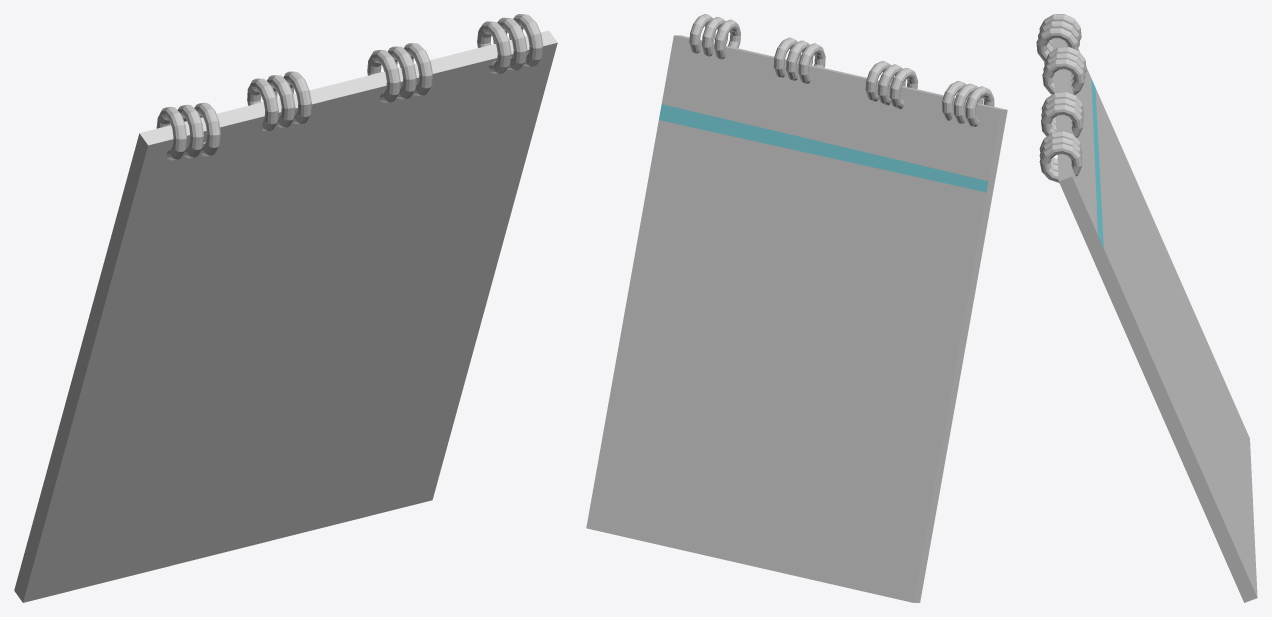
Rendered from notepad.obj.
The picture shows the model from 3 angles, left to right: view 1: azimuth 30°, elevation 25°; view 2: azimuth 150°, elevation 25°; view 3: azimuth 270°, elevation 25°; orthographic projection. The views are drawn at different scales.
Bounding box in the file's own units: 0.2642 × 0.3457 × 0.1538.
